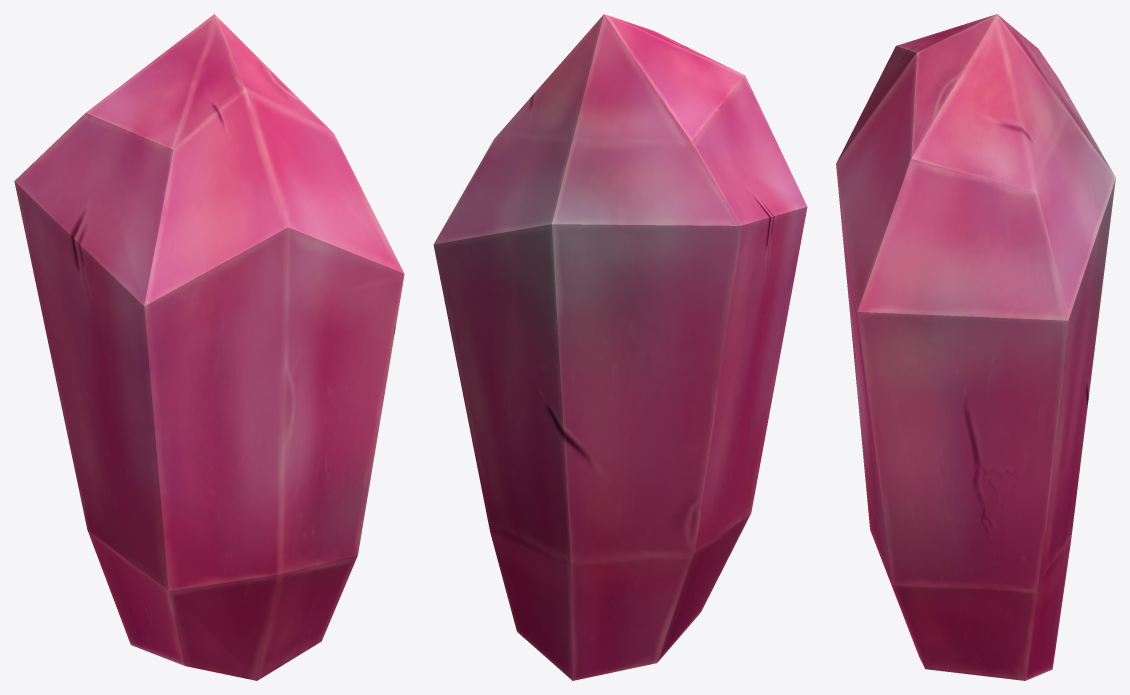
The model's file is Projekt.fbx.
3 renders of one model, left to right at view 1: azimuth 30°, elevation 25°; view 2: azimuth 150°, elevation 25°; view 3: azimuth 270°, elevation 25°, orthographic.
Visible parts, largest first — view 1: Cube; view 2: Cube; view 3: Cube.
Part boxes in pixels (x1,y1,x2,y2): Cube: (14,14,404,680); Cube: (433,14,807,680); Cube: (836,14,1115,680).
Size of the model in its own units: 200 by 408 by 159.
